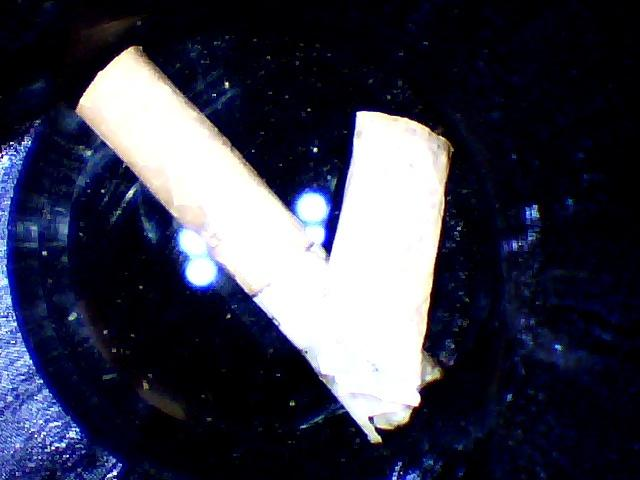megot: (55, 35, 449, 450), (304, 94, 471, 411)
